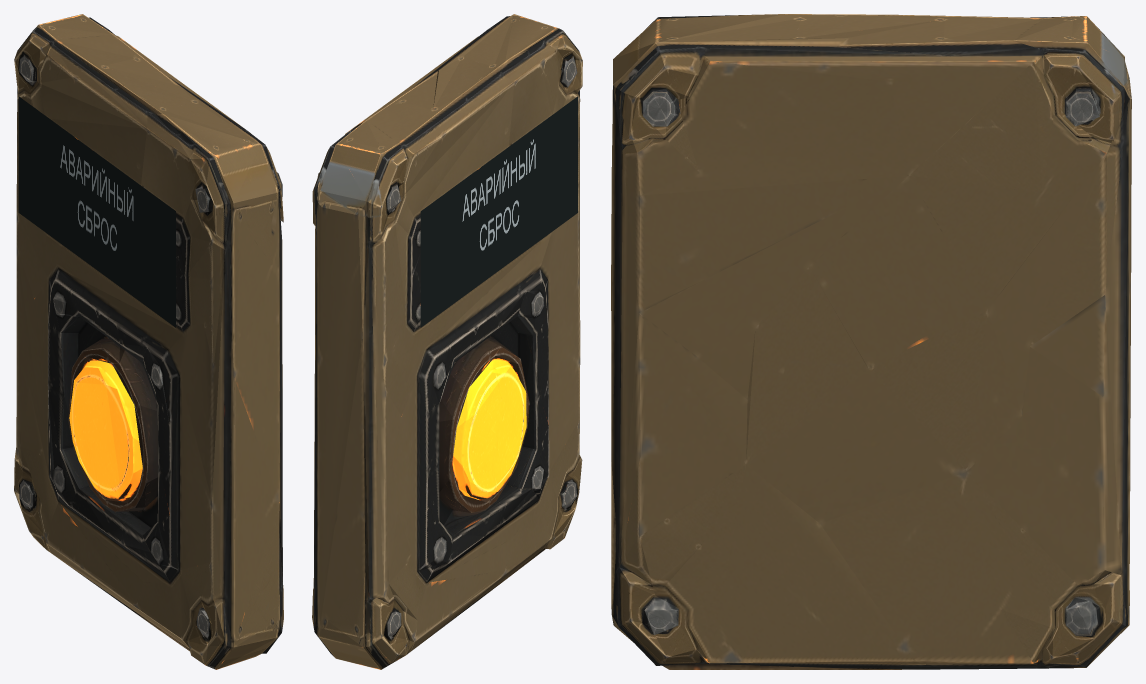
Rendered from shchitok.glb.
3 views of the same model, side by side, from view 1: azimuth 30°, elevation 25°; view 2: azimuth 150°, elevation 25°; view 3: azimuth 270°, elevation 25° (orthographic). The views are drawn at different scales.
Visible parts, largest first — view 1: shchitok; view 2: shchitok; view 3: shchitok.
Boxes of the visible parts, x1,y1,x2,y2 form: shchitok: (14,14,283,669); shchitok: (312,14,582,669); shchitok: (611,14,1131,669).
Size of the model in its own units: 0.15 by 0.8 by 0.6.
Materials: 1 (1 with a texture image).
